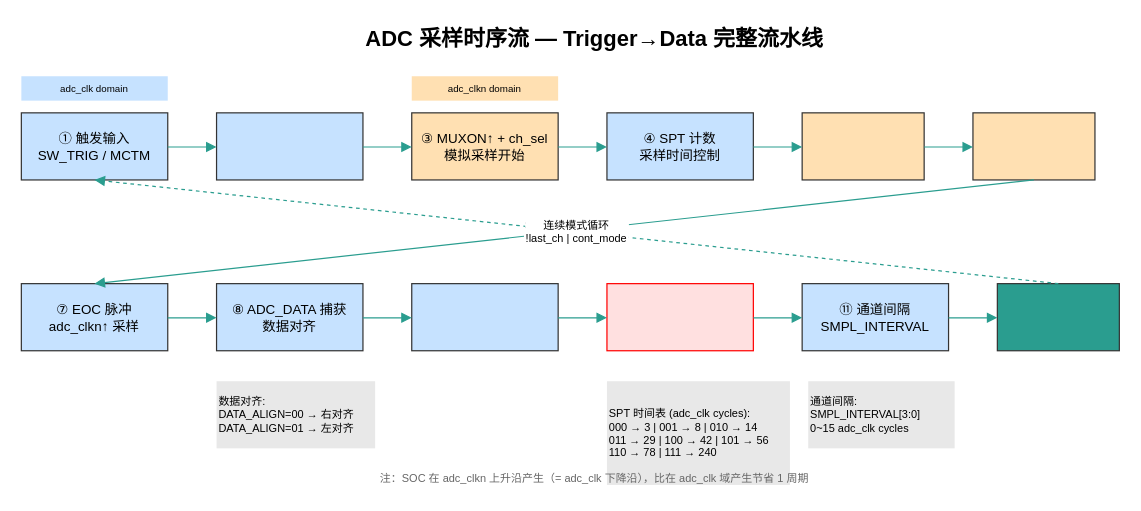
Image size: 1141x511. Some labels were removed from this diagram. Each missing label, with the centre of its shape:
② SOC 脉冲 adc_clkn↑ 时产生: point (289, 146)
⑤ MUXON↓ SPT 完成: point (862, 146)
⑥ SAR 转换 14-bit: point (1033, 146)
⑨ CH_DATA 写入 VALID=1: point (484, 316)
⑩ 中断 / DMA 事件脉冲产生: point (679, 316)
⑫ 下一通道 序列指针+1: point (1057, 316)
